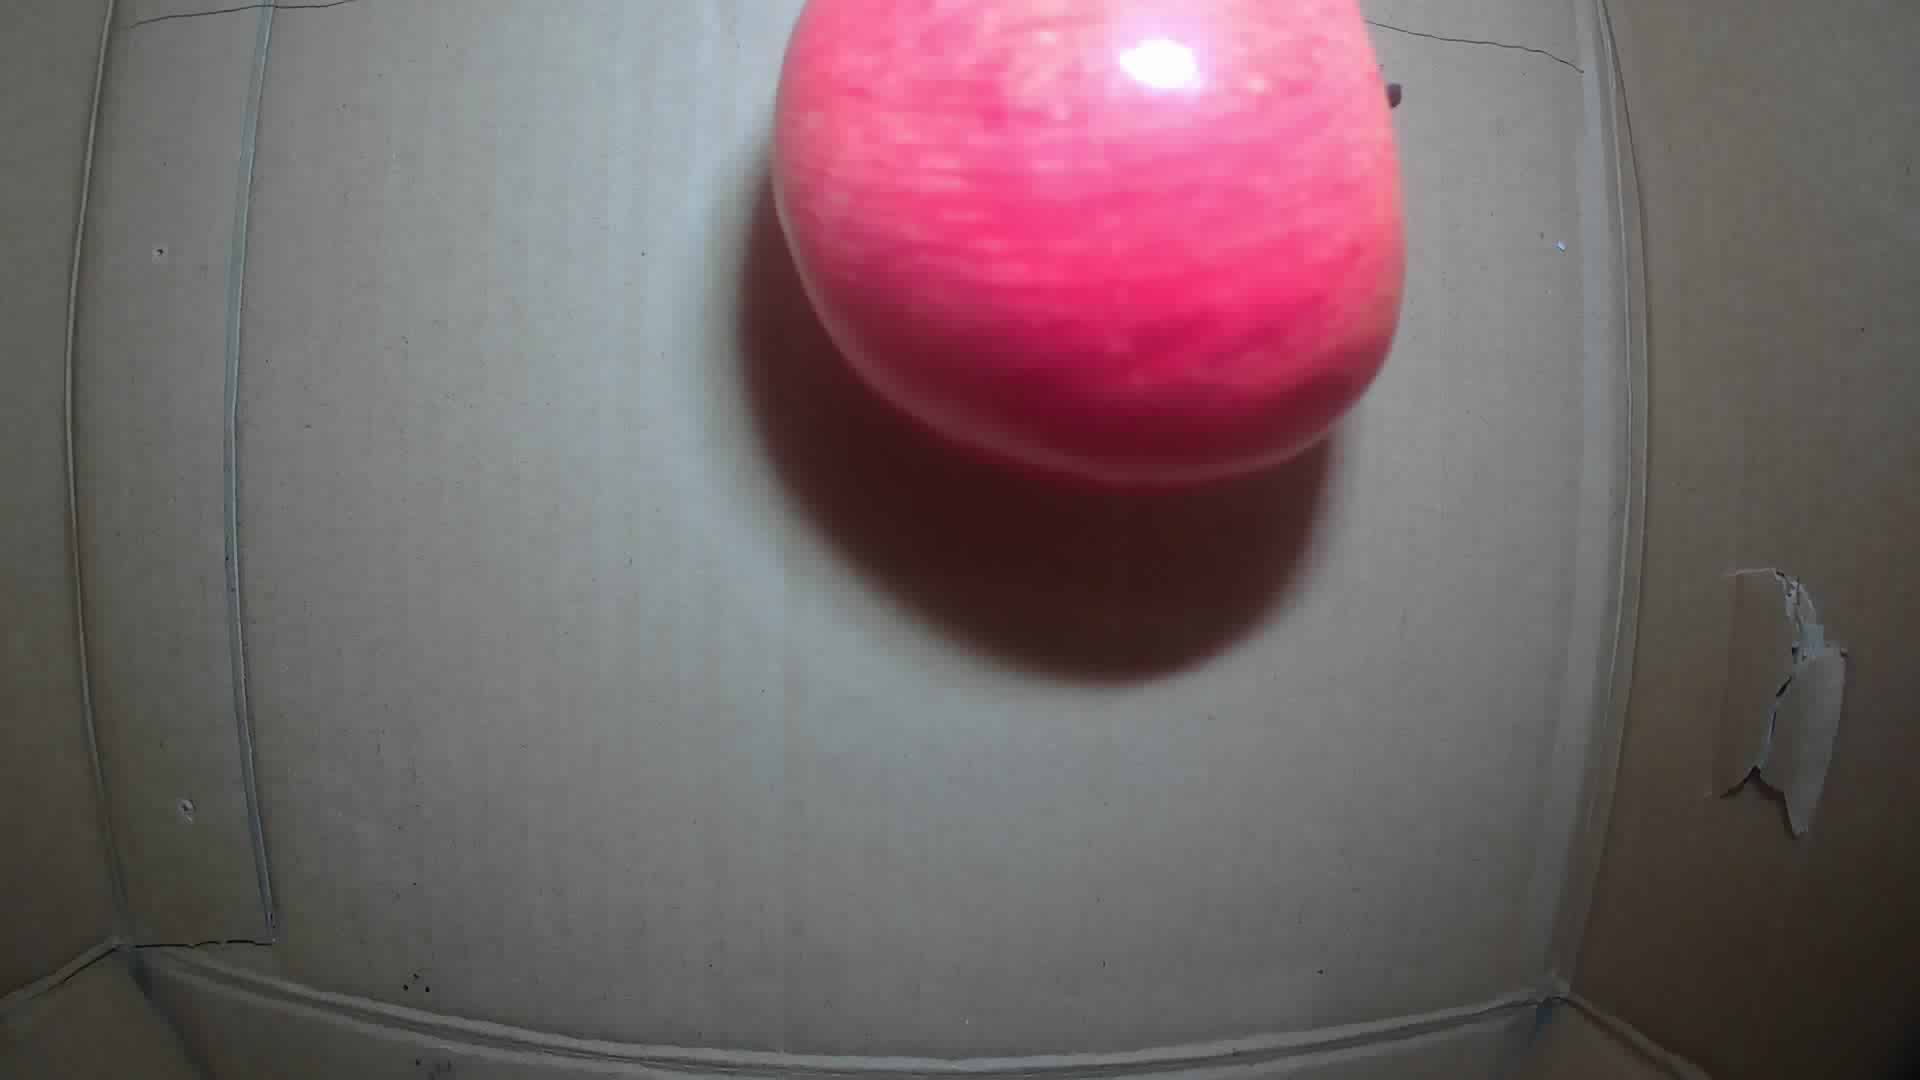apple: (766, 1, 1406, 484)
